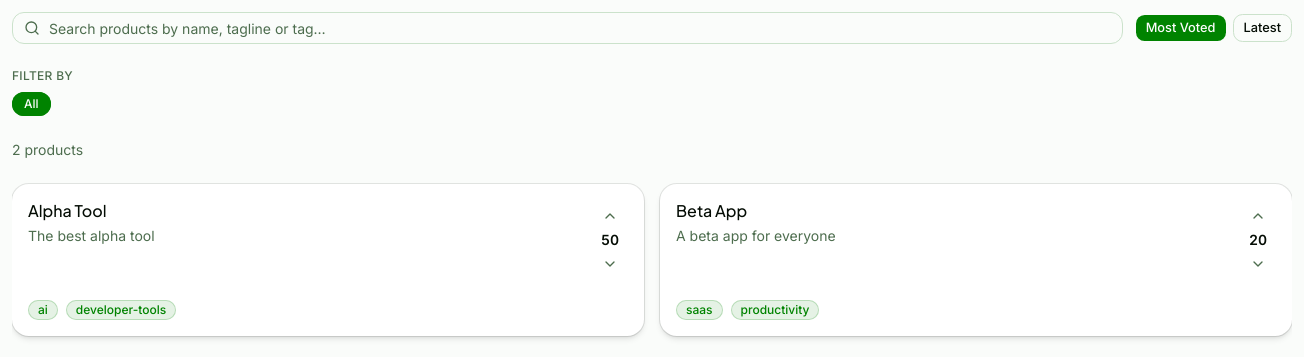
Test case: ProductGrid › clears search when clear button is clicked
The image size is (1304, 357).
Step 1. Type "Alpha" into the field with placeholder "Search products by name, tagline or tag…" → (567, 28), box [12,12,1123,44]
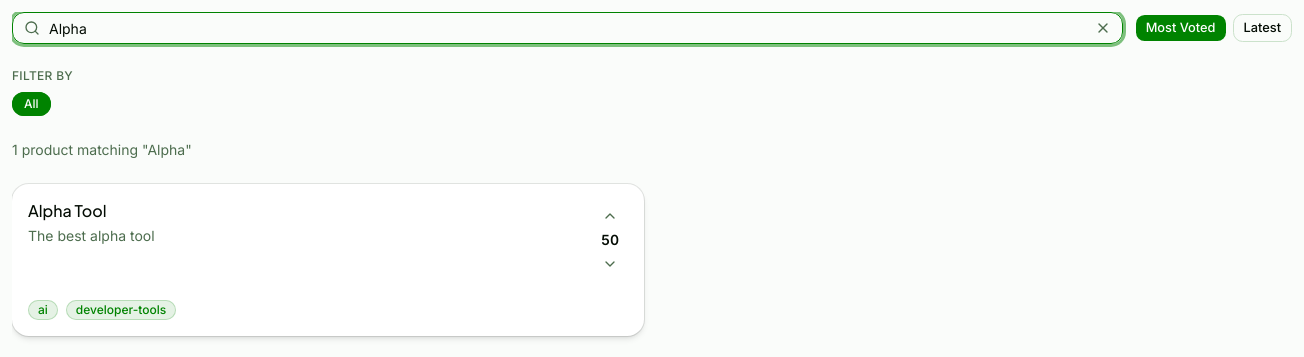
Step 2. Click the button named "Clear search" → (1103, 28), box [1095,20,1111,36]
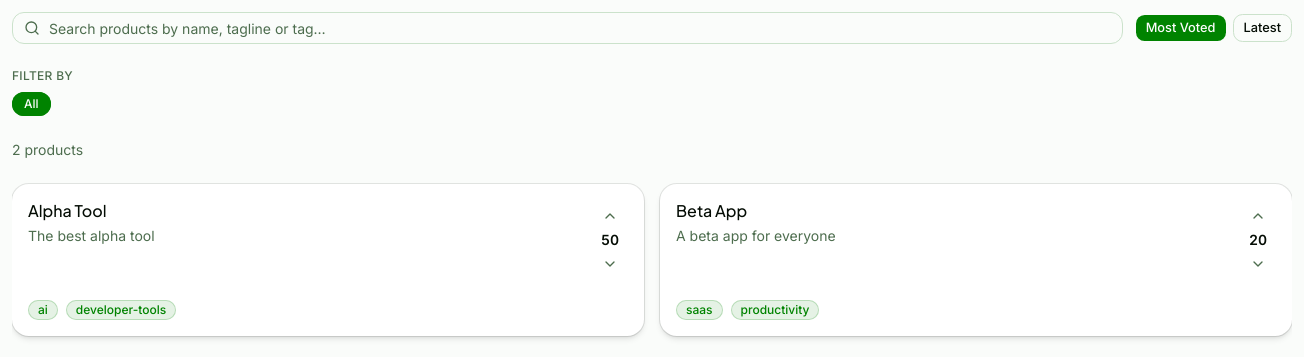
Expected: the text "Beta App" is shown, [676,200,747,221]
